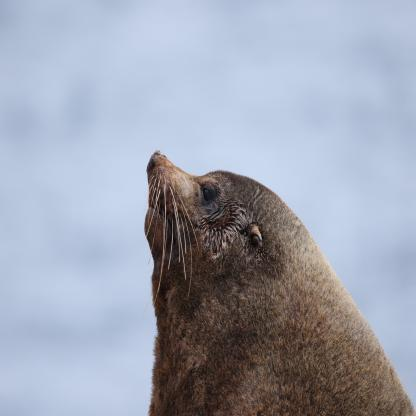face: (142, 147, 233, 260)
